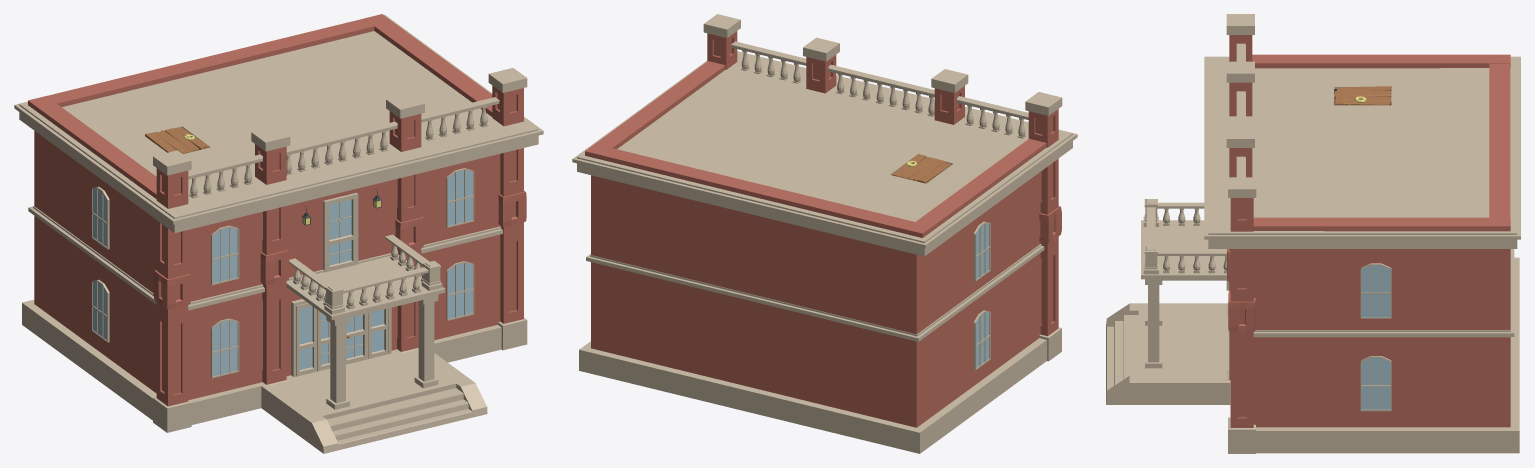
Rendered from Building_Hotel.fbx.
3 renders of one model, left to right at view 1: azimuth 30°, elevation 25°; view 2: azimuth 150°, elevation 25°; view 3: azimuth 270°, elevation 25°, orthographic. The views are drawn at different scales.
Visible parts, largest first — view 1: Building_Hotel; view 2: Building_Hotel; view 3: Building_Hotel.
Part boxes in pixels (x1,y1,x2,y2): Building_Hotel: (14,14,543,453); Building_Hotel: (572,14,1077,453); Building_Hotel: (1106,14,1520,453).
Bounding box in the file's own units: 1324 × 1292 × 910.
